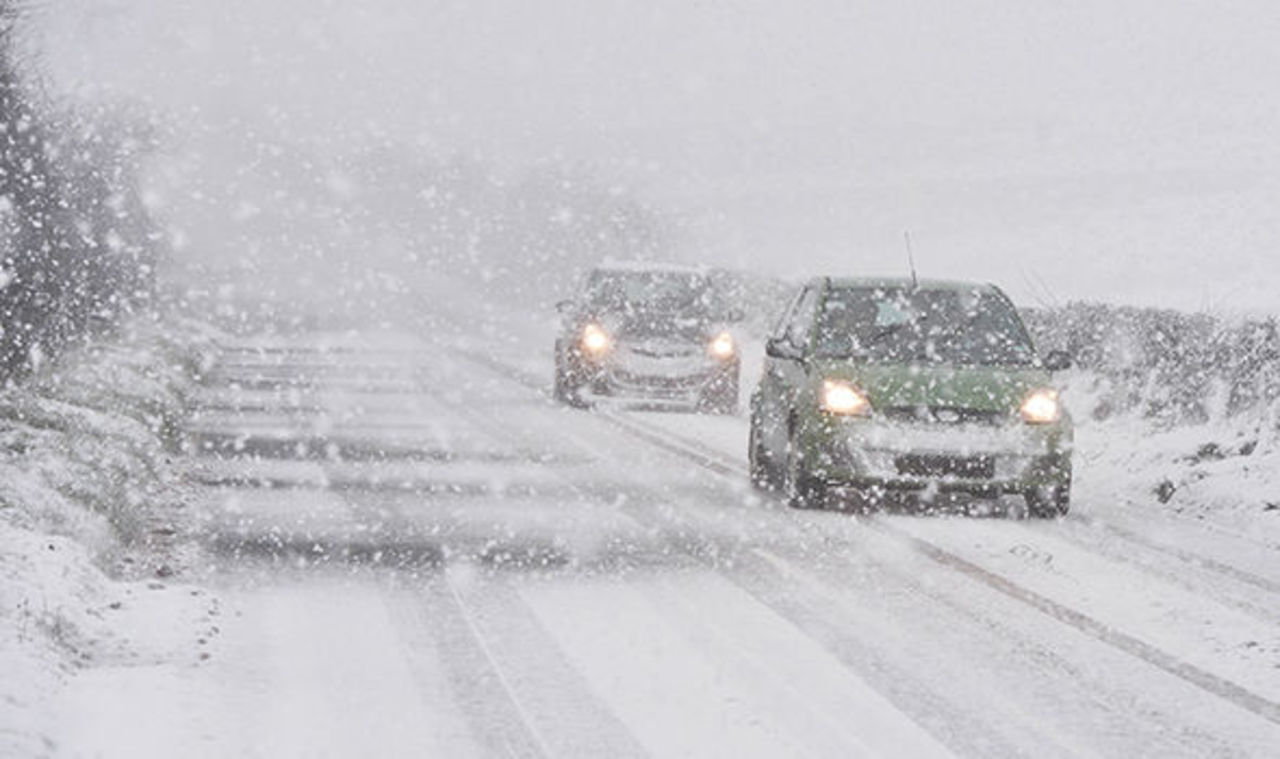car: (742, 271, 1079, 522), (552, 268, 742, 411)
